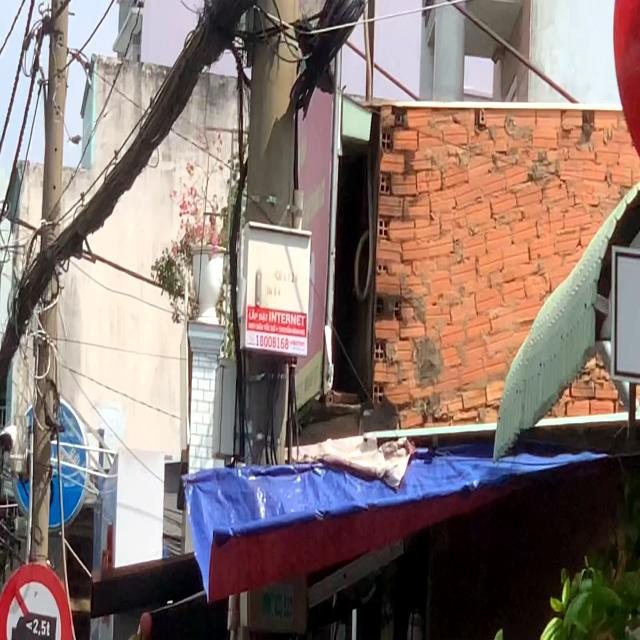Cam xe tai tren 2_5: (0, 555, 85, 640)
